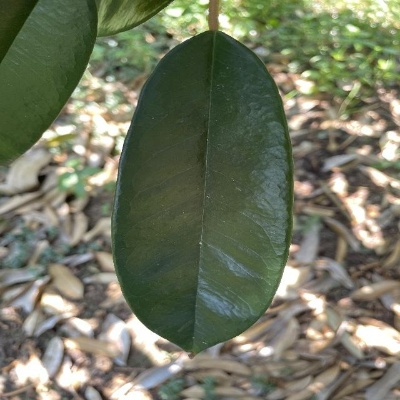Leaf_Healthy: (109, 29, 296, 360)
